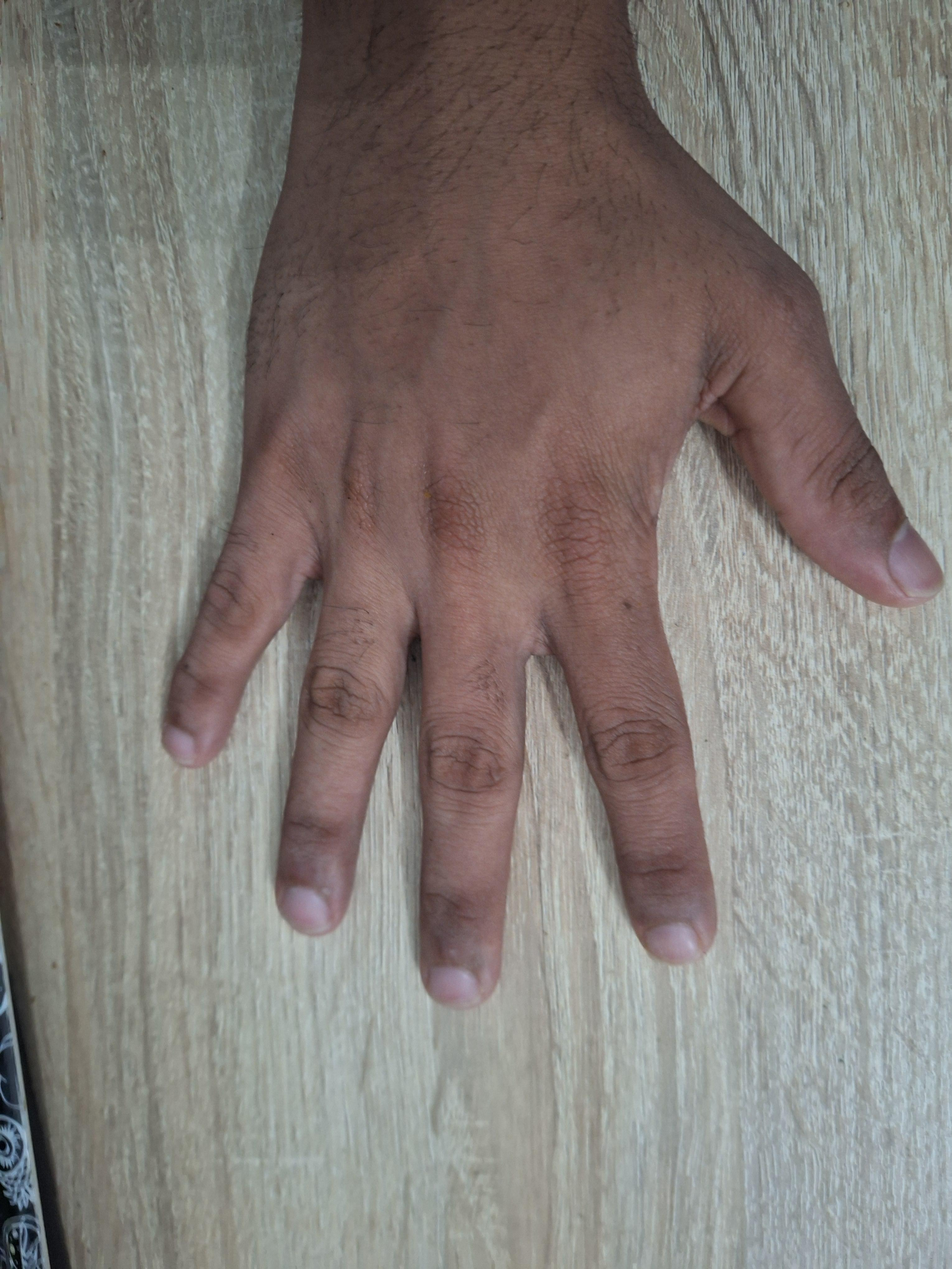Fingernail: (888, 521, 946, 598), (281, 887, 333, 935), (647, 924, 704, 965), (426, 968, 480, 1010), (165, 727, 195, 763)
